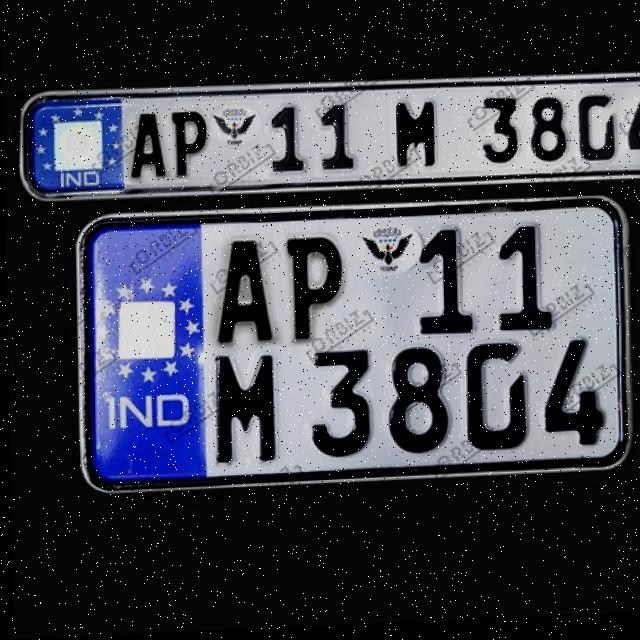plate: (68, 191, 637, 502), (9, 67, 640, 211)
